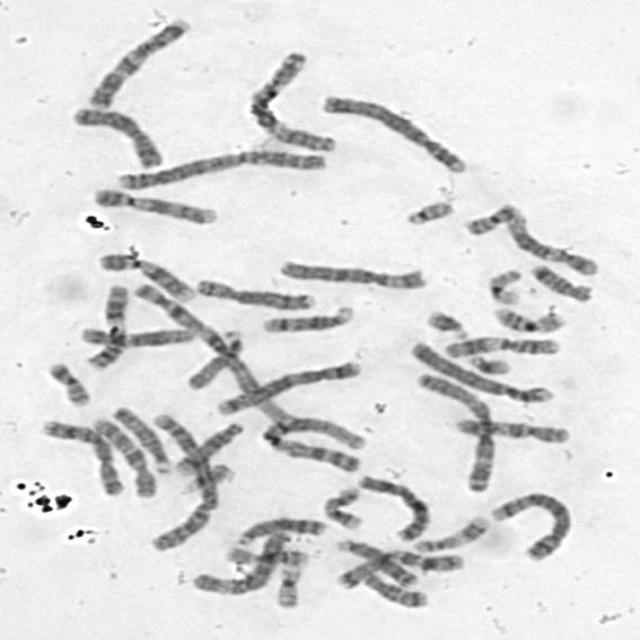A1: (132, 279, 294, 423), (261, 414, 368, 474)
A2: (145, 410, 220, 554), (113, 150, 329, 192)
A3: (412, 372, 497, 493), (247, 50, 340, 154)
B4: (318, 94, 468, 175), (408, 340, 556, 406)
B5: (214, 359, 364, 418), (488, 492, 574, 564)
C10: (92, 416, 159, 500), (450, 417, 572, 446)
C11: (84, 284, 128, 371), (441, 335, 560, 359)
C12: (504, 211, 602, 279), (77, 326, 196, 348)
C6: (190, 530, 291, 600), (276, 260, 429, 292)
C7: (85, 19, 192, 110), (334, 548, 466, 592)
C8: (40, 418, 126, 497), (194, 278, 317, 312)
C9: (98, 252, 198, 304), (91, 187, 218, 226)
D13: (334, 539, 421, 589), (232, 517, 330, 548)
D14: (172, 422, 245, 476), (260, 305, 356, 334)
D15: (112, 404, 172, 474), (183, 330, 243, 394)
E16: (490, 308, 567, 336), (222, 546, 312, 568)
E17: (410, 514, 493, 554), (323, 486, 363, 531)
E18: (528, 262, 594, 303), (361, 572, 431, 608)
F19: (486, 268, 524, 306), (273, 565, 303, 611)
F20: (48, 360, 92, 407), (464, 202, 518, 236)
G21: (423, 309, 471, 340), (467, 353, 514, 377)
G22: (178, 462, 235, 496), (405, 200, 457, 226)
X: (69, 105, 165, 169), (354, 474, 432, 542)
